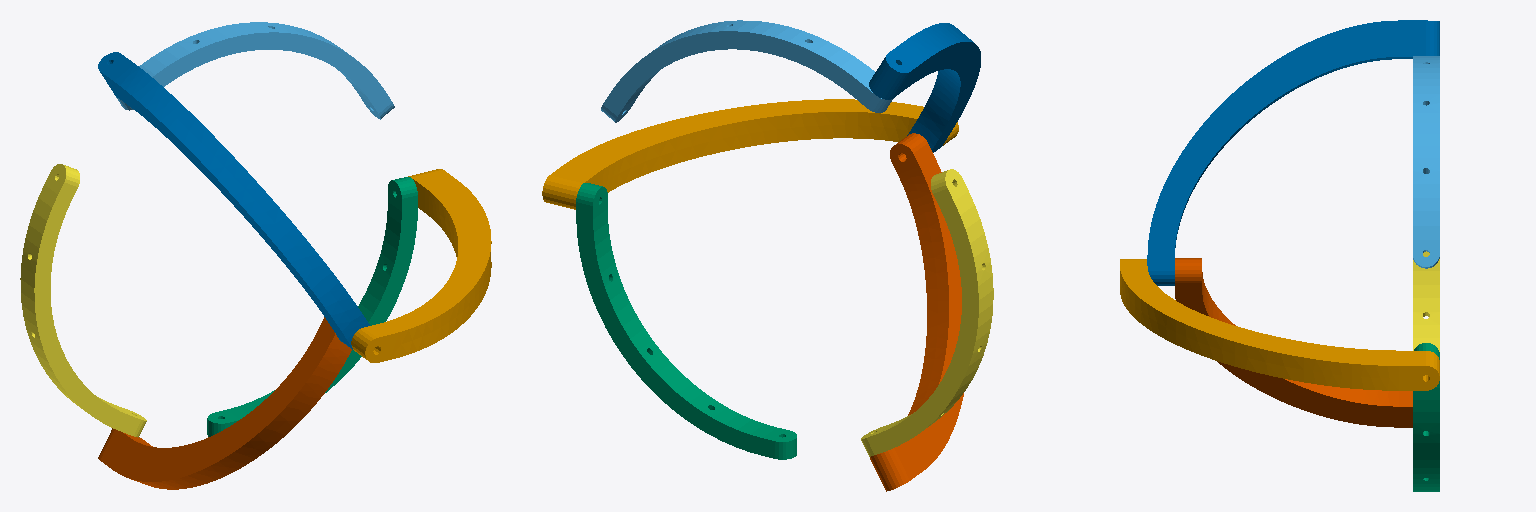
URDF robot description (parallel):
<?xml version="1.0" ?>
<robot name="parallel">

<link name="base_link">
  <inertial>
    <origin xyz="0.08794961287773045 -0.06909036232160569 8.43506745610139e-16" rpy="0 0 0"/>
    <mass value="0.4807349658967993"/>
    <inertia ixx="0.0013276319079047316" iyy="0.0007753729301635533" izz="0.002085055351696231" ixy="-0.0009082066035635255" iyz="-3.769935426954075e-17" ixz="-1.6633233939518004e-17"/>
  </inertial>
  <visual>
    <origin xyz="0 0 0" rpy="0 0 0"/>
    <geometry>
      <mesh filename="meshes/base_link.stl" scale="0.001 0.001 0.001"/>
    </geometry>
  </visual>
  <collision>
    <origin xyz="0 0 0" rpy="0 0 0"/>
    <geometry>
      <mesh filename="meshes/base_link.stl" scale="0.001 0.001 0.001"/>
    </geometry>
  </collision>
</link>

<link name="arc13">
  <inertial>
    <origin xyz="0.08509599066644588 -0.015 -0.00343342425709868" rpy="0 0 0"/>
    <mass value="0.22081001304640221"/>
    <inertia ixx="7.438486185762892e-05" iyy="0.0006053333713109902" izz="0.0005392739880480771" ixy="-2.710505431213761e-20" iyz="-1.0842021724855044e-19" ixz="0.00013420193107476186"/>
  </inertial>
  <visual>
    <origin xyz="0.05875 -0.0375 -0.101758" rpy="0 0 0"/>
    <geometry>
      <mesh filename="meshes/arc13.stl" scale="0.001 0.001 0.001"/>
    </geometry>
  </visual>
  <collision>
    <origin xyz="0.05875 -0.0375 -0.101758" rpy="0 0 0"/>
    <geometry>
      <mesh filename="meshes/arc13.stl" scale="0.001 0.001 0.001"/>
    </geometry>
  </collision>
</link>

<link name="arc11">
  <inertial>
    <origin xyz="-0.04552141492354324 0.0 -0.07197858507646054" rpy="0 0 0"/>
    <mass value="0.22081001304640221"/>
    <inertia ixx="0.000306829424952793" iyy="0.0006053333713109906" izz="0.0003068294249529138" ixy="-5.421010862427522e-20" iyz="5.421010862427522e-20" ixz="-0.0002684038621494195"/>
  </inertial>
  <visual>
    <origin xyz="-0.1175 -0.0225 0.0" rpy="0 0 0"/>
    <geometry>
      <mesh filename="meshes/arc11.stl" scale="0.001 0.001 0.001"/>
    </geometry>
  </visual>
  <collision>
    <origin xyz="-0.1175 -0.0225 0.0" rpy="0 0 0"/>
    <geometry>
      <mesh filename="meshes/arc11.stl" scale="0.001 0.001 0.001"/>
    </geometry>
  </collision>
</link>

<link name="arc12">
  <inertial>
    <origin xyz="-0.03957457574290271 0.0 0.07541200933355922" rpy="0 0 0"/>
    <mass value="0.22081001304640221"/>
    <inertia ixx="0.0005392739880481373" iyy="0.0006053333713109893" izz="7.438486185756864e-05" ixy="-1.0842021724855044e-19" iyz="2.710505431213761e-20" ixz="0.0001342019310746576"/>
  </inertial>
  <visual>
    <origin xyz="0.05875 -0.0225 0.101758" rpy="0 0 0"/>
    <geometry>
      <mesh filename="meshes/arc12.stl" scale="0.001 0.001 0.001"/>
    </geometry>
  </visual>
  <collision>
    <origin xyz="0.05875 -0.0225 0.101758" rpy="0 0 0"/>
    <geometry>
      <mesh filename="meshes/arc12.stl" scale="0.001 0.001 0.001"/>
    </geometry>
  </collision>
</link>

<link name="link11">
  <inertial>
    <origin xyz="-0.04338280205205951 0.06816255780370216 0.07514121732888966" rpy="0 0 0"/>
    <mass value="0.4558316606833931"/>
    <inertia ixx="0.001590304789528236" iyy="0.000753343817129644" izz="0.0012221406871760513" ixy="0.00039534126942072575" iyz="-0.0006847511649663361" ixz="0.0003188394653971128"/>
  </inertial>
  <visual>
    <origin xyz="0.0 0.13 -0.0" rpy="0 0 0"/>
    <geometry>
      <mesh filename="meshes/link11.stl" scale="0.001 0.001 0.001"/>
    </geometry>

  </visual>
  <collision>
    <origin xyz="0.0 0.13 -0.0" rpy="0 0 0"/>
    <geometry>
      <mesh filename="meshes/link11.stl" scale="0.001 0.001 0.001"/>
    </geometry>
  </collision>
</link>

<link name="link21">
  <inertial>
    <origin xyz="-0.042788801591880296 0.060442283194276795 -0.07411237835211988" rpy="0 0 0"/>
    <mass value="0.4309337837490581"/>
    <inertia ixx="0.0013290037429325085" iyy="0.0007308158804789967" izz="0.0009716367737133726" ixy="0.00033904868084472684" iyz="0.0005872495414623795" ixz="-0.00030948887381646137"/>
  </inertial>
  <visual>
    <origin xyz="0.0 0.115 -0.0" rpy="0 0 0"/>
    <geometry>
      <mesh filename="meshes/link21.stl" scale="0.001 0.001 0.001"/>
    </geometry>
  </visual>
  <collision>
    <origin xyz="0.0 0.115 -0.0" rpy="0 0 0"/>
    <geometry>
      <mesh filename="meshes/link21.stl" scale="0.001 0.001 0.001"/>
    </geometry>
  </collision>
</link>

<joint name="Revolute_3" type="continuous">
  <origin xyz="-0.05875 0.1675 0.101758" rpy="0 0 0"/>
  <parent link="link11"/>
  <child link="arc13"/>
  <axis xyz="0.5 0.0 -0.866025"/>
</joint>
<transmission name="Revolute_3_tran">
  <type>transmission_interface/SimpleTransmission</type>
  <joint name="Revolute_3">
    <hardwareInterface>PositionJointInterface</hardwareInterface>
  </joint>
  <actuator name="Revolute_3_actr">
    <hardwareInterface>PositionJointInterface</hardwareInterface>
    <mechanicalReduction>1</mechanicalReduction>
  </actuator>
</transmission>

<joint name="Revolute_5" type="continuous">
  <origin xyz="0.1175 0.0225 0.0" rpy="0 0 0"/>
  <parent link="base_link"/>
  <child link="arc11"/>
  <axis xyz="-1.0 0.0 0.0"/>
</joint>
<transmission name="Revolute_5_tran">
  <type>transmission_interface/SimpleTransmission</type>
  <joint name="Revolute_5">
    <hardwareInterface>PositionJointInterface</hardwareInterface>
  </joint>
  <actuator name="Revolute_5_actr">
    <hardwareInterface>PositionJointInterface</hardwareInterface>
    <mechanicalReduction>1</mechanicalReduction>
  </actuator>
</transmission>

<joint name="Revolute_7" type="continuous">
  <origin xyz="-0.05875 0.1375 -0.101758" rpy="0 0 0"/>
  <parent link="link21"/>
  <child link="arc12"/>
  <axis xyz="0.5 0.0 0.866025"/>
</joint>
<transmission name="Revolute_7_tran">
  <type>transmission_interface/SimpleTransmission</type>
  <joint name="Revolute_7">
    <hardwareInterface>PositionJointInterface</hardwareInterface>
  </joint>
  <actuator name="Revolute_7_actr">
    <hardwareInterface>PositionJointInterface</hardwareInterface>
    <mechanicalReduction>1</mechanicalReduction>
  </actuator>
</transmission>

<joint name="Revolute_9" type="continuous">
  <origin xyz="0.0 -0.13 0.0" rpy="0 0 0"/>
  <parent link="base_link"/>
  <child link="link11"/>
  <axis xyz="0.0 -1.0 0.0"/>
</joint>
<transmission name="Revolute_9_tran">
  <type>transmission_interface/SimpleTransmission</type>
  <joint name="Revolute_9">
    <hardwareInterface>PositionJointInterface</hardwareInterface>
  </joint>
  <actuator name="Revolute_9_actr">
    <hardwareInterface>PositionJointInterface</hardwareInterface>
    <mechanicalReduction>1</mechanicalReduction>
  </actuator>
</transmission>

<joint name="Revolute_10" type="continuous">
  <origin xyz="0.0 0.015 0.0" rpy="0 0 0"/>
  <parent link="link11"/>
  <child link="link21"/>
  <axis xyz="0.0 -1.0 0.0"/>
</joint>
<transmission name="Revolute_10_tran">
  <type>transmission_interface/SimpleTransmission</type>
  <joint name="Revolute_10">
    <hardwareInterface>PositionJointInterface</hardwareInterface>
  </joint>
  <actuator name="Revolute_10_actr">
    <hardwareInterface>PositionJointInterface</hardwareInterface>
    <mechanicalReduction>1</mechanicalReduction>
  </actuator>
</transmission>

</robot>

--- Render facts (derived) ---
Views: 3 orthographic renders of the robot side by side, from view 1: azimuth 30°, elevation 25°; view 2: azimuth 150°, elevation 25°; view 3: azimuth 270°, elevation 25°.
Robot: parallel — 6 links, 5 joints (5 continuous); root link base_link; default pose: every joint at zero.
Visible links, largest first — view 1: link11, link21, base_link, arc12, arc13, arc11; view 2: base_link, arc11, link21, arc12, arc13, link11; view 3: link11, base_link, link21, arc13, arc11, arc12.
Boxes of the visible links, box(x1,y1,x2,y2) form: link11: box(98, 52, 369, 349); link21: box(98, 317, 351, 489); base_link: box(351, 169, 491, 362); arc12: box(20, 164, 146, 437); arc13: box(116, 22, 394, 119); arc11: box(207, 177, 417, 436); base_link: box(542, 99, 958, 209); arc11: box(576, 183, 796, 459); link21: box(870, 133, 963, 491); arc12: box(861, 169, 993, 456); arc13: box(601, 20, 893, 122); link11: box(869, 23, 980, 152); link11: box(1147, 20, 1439, 285); base_link: box(1120, 259, 1439, 390); link21: box(1175, 258, 1412, 427); arc13: box(1413, 56, 1439, 268); arc11: box(1413, 343, 1439, 491); arc12: box(1413, 251, 1439, 351).
Size in the robot's own frame: 0.2577 by 0.175 by 0.2457 metres.
Meshes: 6 distinct files referenced, 6 mesh visuals loaded (6 binary STL).